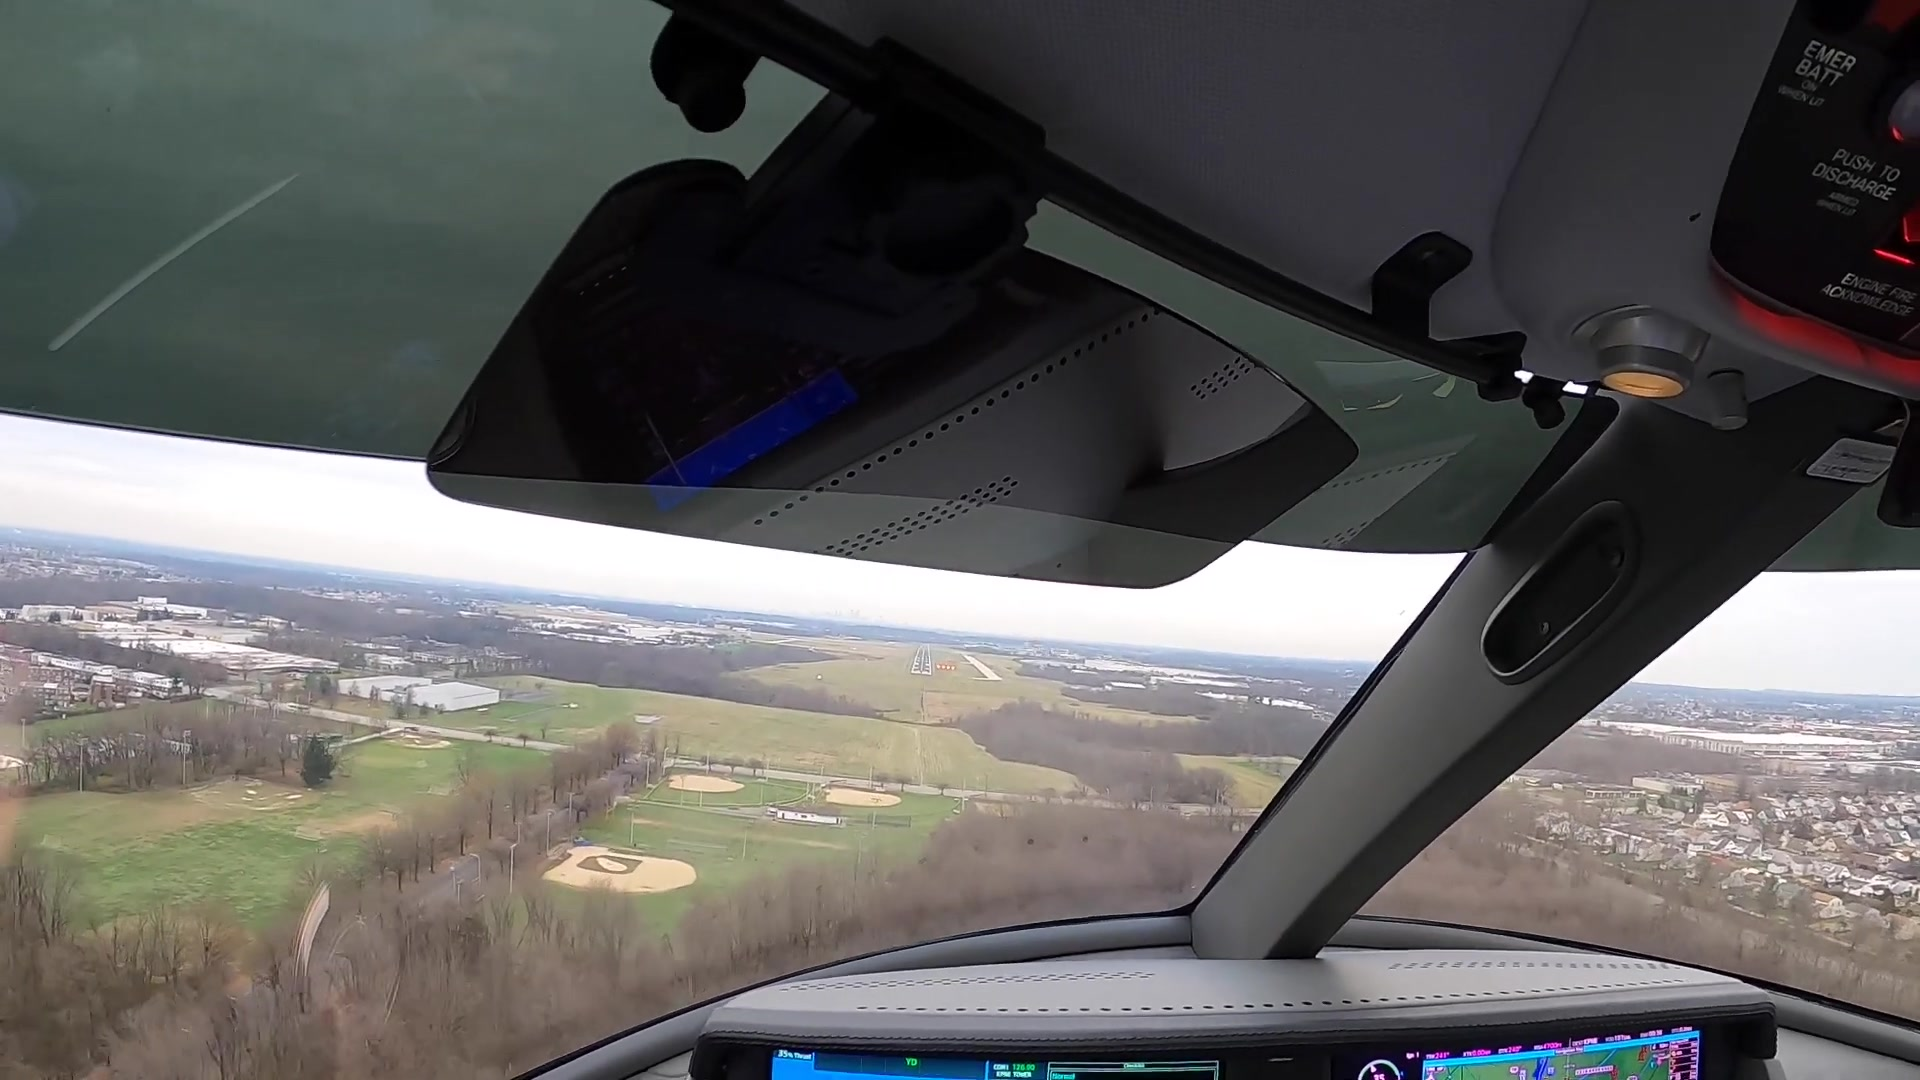runway: (909, 641, 934, 676)
